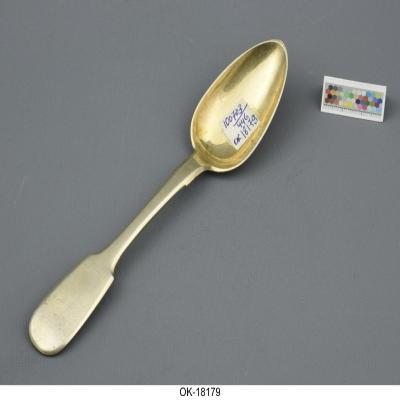dpi: (28, 40, 289, 358)
